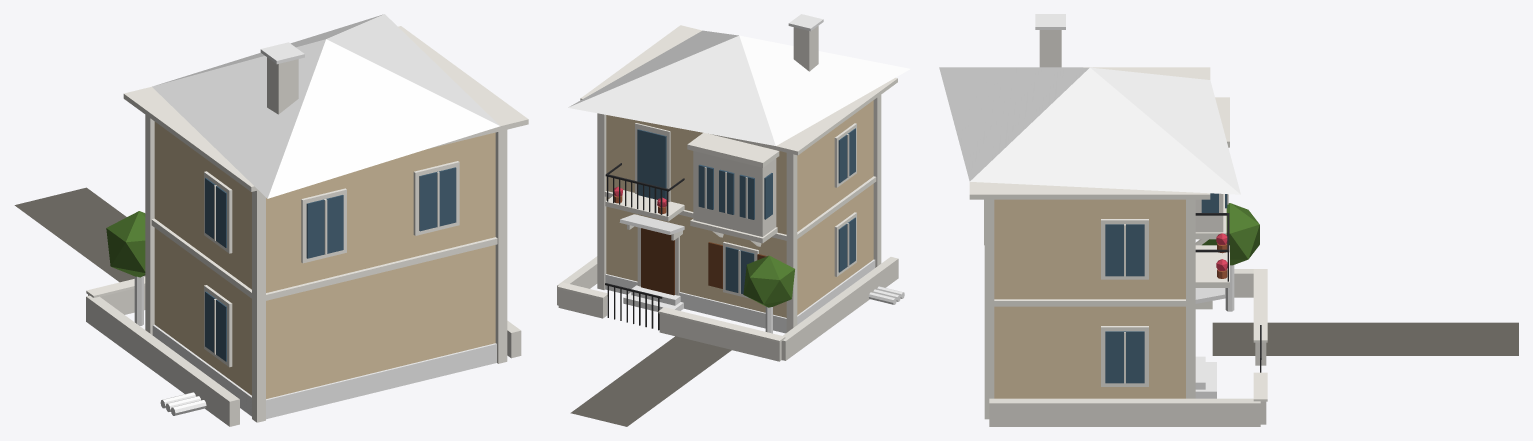
The model's file is evkasaba.glb.
3 views of the same model, side by side, from view 1: azimuth 30°, elevation 25°; view 2: azimuth 150°, elevation 25°; view 3: azimuth 270°, elevation 25° (orthographic). The views are drawn at different scales.
Visible parts, largest first — view 1: Baca; view 2: Baca; view 3: Baca.
Boxes of the visible parts, <box> form: Baca: <box>14,14,528,426</box>; Baca: <box>557,14,909,426</box>; Baca: <box>939,14,1518,426</box>.
Bounding box in the file's own units: 0.6057 × 0.5932 × 1.
